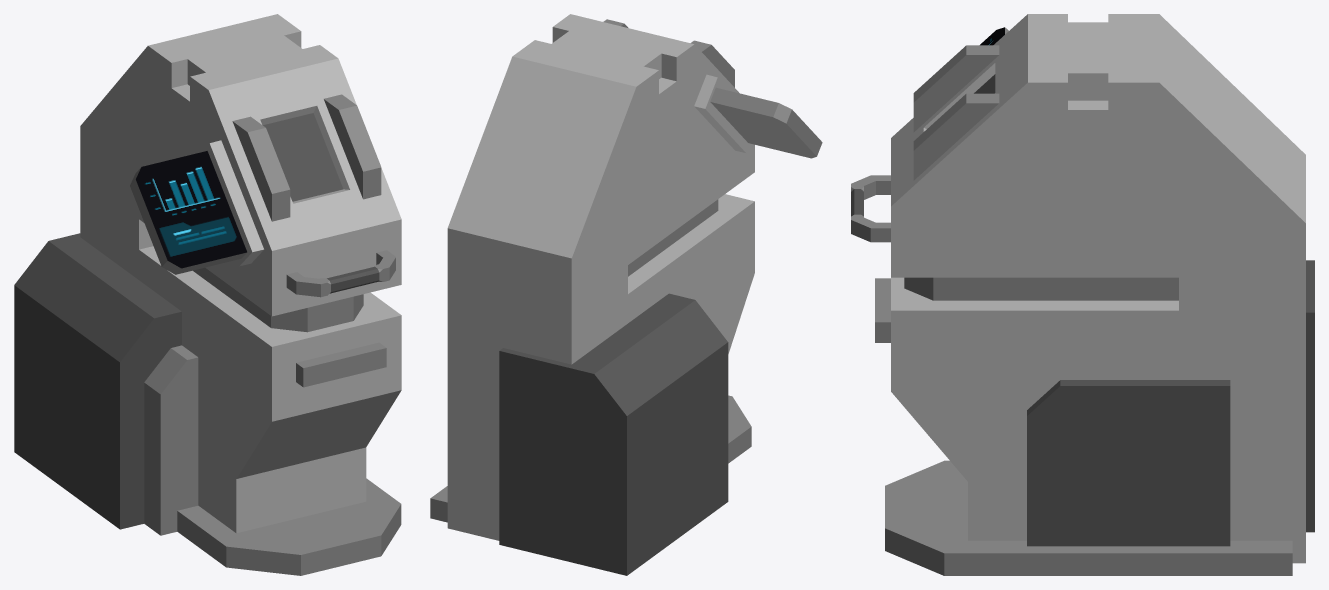
The model's file is SM_Machine_2.fbx.
The picture shows the model from 3 angles, left to right: view 1: azimuth 30°, elevation 25°; view 2: azimuth 150°, elevation 25°; view 3: azimuth 270°, elevation 25°; orthographic projection. The views are drawn at different scales.
Parts seen in each view (by area): view 1: SM_Machine_2; view 2: SM_Machine_2; view 3: SM_Machine_2.
Boxes of the visible parts, left/top/right/bottom form: SM_Machine_2: left=14, top=14, right=401, bottom=575; SM_Machine_2: left=430, top=14, right=822, bottom=575; SM_Machine_2: left=851, top=14, right=1314, bottom=575.
Size of the model in its own units: 72.75 by 128 by 112.
